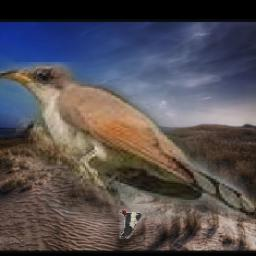Cuckoo: (0, 62, 256, 219)
Woodpecker: (120, 209, 143, 239)
